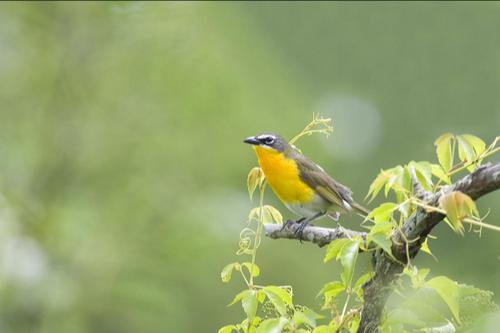bird: (229, 126, 373, 243)
